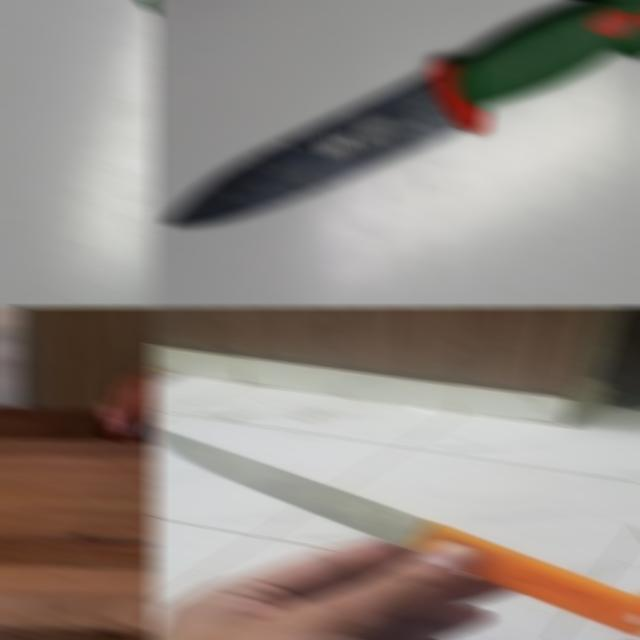Knife: (163, 0, 640, 227), (149, 425, 640, 639)
